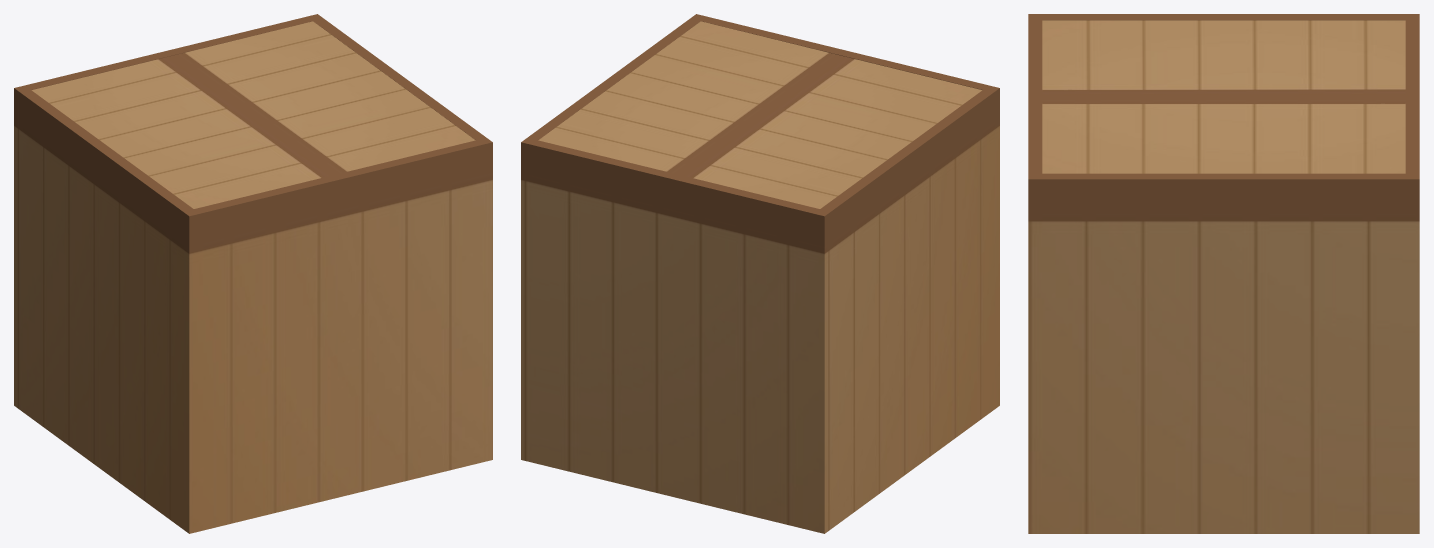
3 renders of one model, left to right at view 1: azimuth 30°, elevation 25°; view 2: azimuth 150°, elevation 25°; view 3: azimuth 270°, elevation 25°, orthographic. The views are drawn at different scales.
Visible parts, largest first — view 1: Box, BoxLid2, BoxLid1; view 2: Box, BoxLid2, BoxLid1; view 3: Box, BoxLid2, BoxLid1.
Part boxes in pixels (bbox=[...]): Box: bbox=[14, 14, 492, 533]; BoxLid2: bbox=[31, 56, 334, 208]; BoxLid1: bbox=[173, 21, 475, 174]; Box: bbox=[521, 14, 999, 533]; BoxLid2: bbox=[679, 56, 982, 208]; BoxLid1: bbox=[538, 21, 840, 174]; Box: bbox=[1028, 14, 1419, 533]; BoxLid2: bbox=[1042, 20, 1405, 97]; BoxLid1: bbox=[1042, 97, 1405, 173].
Size of the model in its own units: 200 by 200 by 200.
